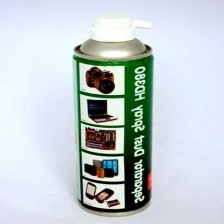aerosol_cans: (69, 9, 158, 218)
